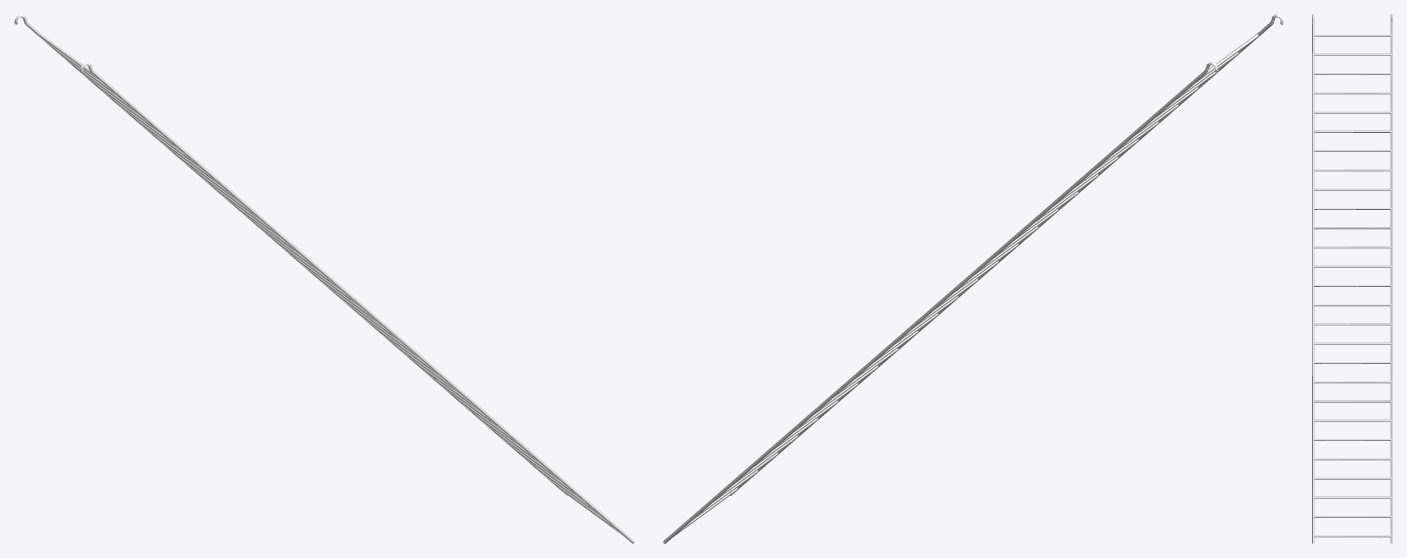
Rendered from Gabbia_Scala.fbx.
3 renders of one model, left to right at view 1: azimuth 30°, elevation 25°; view 2: azimuth 150°, elevation 25°; view 3: azimuth 270°, elevation 25°, orthographic. The views are drawn at different scales.
Parts seen in each view (by area): view 1: mesh; view 2: mesh; view 3: mesh.
Part boxes in pixels (box(x1,y1,x2,y2)): mesh: box(14, 14, 634, 543); mesh: box(663, 14, 1283, 543); mesh: box(1312, 14, 1392, 543).
Size of what is drawn, in the model's own units: 7246 by 7672 by 1521.
Materials: 1 (1 with a texture image).
